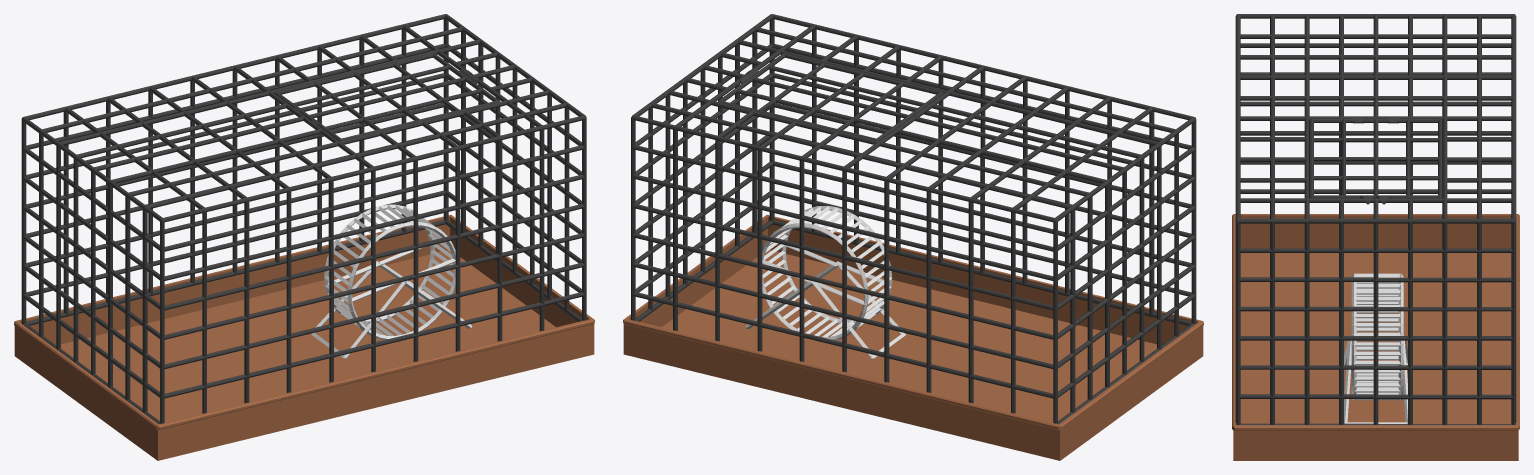
File: Rat_cage.fbx
The picture shows the model from 3 angles, left to right: view 1: azimuth 30°, elevation 25°; view 2: azimuth 150°, elevation 25°; view 3: azimuth 270°, elevation 25°; orthographic projection.
Parts seen in each view (by area): view 1: polySurface2681; view 2: polySurface2681; view 3: polySurface2681.
Boxes of the visible parts, box(x1,y1,x2,y2) form: polySurface2681: box(14, 14, 594, 460); polySurface2681: box(623, 14, 1203, 460); polySurface2681: box(1232, 14, 1519, 460).
Size of the model in its own units: 1555 by 813 by 887.
Materials: 3 (3 with a texture image).
